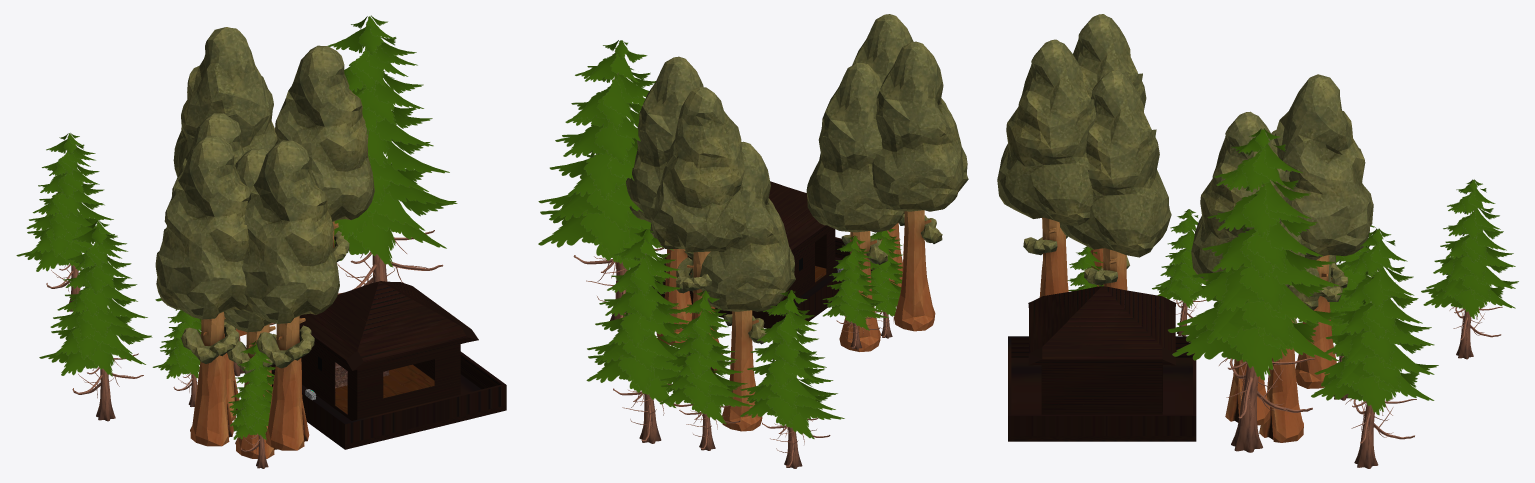
3 views of the same model, side by side, from view 1: azimuth 30°, elevation 25°; view 2: azimuth 150°, elevation 25°; view 3: azimuth 270°, elevation 25° (orthographic). The views are drawn at different scales.
Visible parts, largest first — view 1: RadioTower.glb.001, SequoiaTree_Mesh_4, SequoiaTree_Mesh_5, Pine_4_2_5, SequoiaTree_Mesh_1, Pine_4_2, SequoiaTree_Mesh_2, Pine_4_2_1_1, SequoiaTree_Mesh_3, Pine_4_2_3, SequoiaTree_Mesh, Pine_4_2_4 (+2 smaller); view 2: SequoiaTree_Mesh_5, Pine_4_2_5, SequoiaTree_Mesh_2, SequoiaTree_Mesh_3, SequoiaTree_Mesh, Pine_4, Pine_4_2, SequoiaTree_Mesh_1, RadioTower.glb.001, Pine_4_2_1_1, Pine_4_2_4, SequoiaTree_Mesh_4 (+4 smaller); view 3: RadioTower.glb.001, Pine_4_2_5, SequoiaTree_Mesh_4, SequoiaTree_Mesh_2, SequoiaTree_Mesh_3, Pine_4, Pine_4_2_1_1, SequoiaTree_Mesh_1, SequoiaTree_Mesh_5, SequoiaTree_Mesh, Pine_4_2_4, Pine_4_1_5 (+3 smaller).
Boxes of the visible parts, x1=… form: RadioTower.glb.001: x1=271, y1=281, x2=506, y2=449; SequoiaTree_Mesh_4: x1=242, y1=140, x2=339, y2=450; SequoiaTree_Mesh_5: x1=155, y1=136, x2=250, y2=446; Pine_4_2_5: x1=328, y1=15, x2=457, y2=267; SequoiaTree_Mesh_1: x1=275, y1=45, x2=374, y2=262; Pine_4_2: x1=39, y1=220, x2=152, y2=376; SequoiaTree_Mesh_2: x1=173, y1=27, x2=277, y2=336; Pine_4_2_1_1: x1=16, y1=133, x2=117, y2=271; SequoiaTree_Mesh_3: x1=224, y1=148, x2=277, y2=458; Pine_4_2_3: x1=228, y1=340, x2=275, y2=439; SequoiaTree_Mesh: x1=162, y1=113, x2=244, y2=420; Pine_4_2_4: x1=152, y1=309, x2=201, y2=378; SequoiaTree_Mesh_5: x1=872, y1=41, x2=968, y2=331; Pine_4_2_5: x1=538, y1=40, x2=673, y2=281; SequoiaTree_Mesh_2: x1=650, y1=86, x2=746, y2=373; SequoiaTree_Mesh_3: x1=806, y1=62, x2=904, y2=351; SequoiaTree_Mesh: x1=689, y1=141, x2=795, y2=431; Pine_4: x1=586, y1=229, x2=693, y2=443; Pine_4_2: x1=740, y1=290, x2=844, y2=439; SequoiaTree_Mesh_1: x1=626, y1=56, x2=703, y2=345; RadioTower.glb.001: x1=652, y1=181, x2=872, y2=328; Pine_4_2_1_1: x1=659, y1=290, x2=753, y2=424; Pine_4_2_4: x1=822, y1=235, x2=888, y2=330; SequoiaTree_Mesh_4: x1=852, y1=14, x2=913, y2=286; RadioTower.glb.001: x1=1008, y1=286, x2=1196, y2=441; Pine_4_2_5: x1=1168, y1=128, x2=1344, y2=380; SequoiaTree_Mesh_4: x1=997, y1=39, x2=1095, y2=297; SequoiaTree_Mesh_2: x1=1274, y1=74, x2=1373, y2=388; SequoiaTree_Mesh_3: x1=1059, y1=70, x2=1171, y2=290; Pine_4: x1=1311, y1=228, x2=1438, y2=468; Pine_4_2_1_1: x1=1421, y1=179, x2=1518, y2=318; SequoiaTree_Mesh_1: x1=1191, y1=111, x2=1304, y2=425; SequoiaTree_Mesh_5: x1=1073, y1=14, x2=1146, y2=286; SequoiaTree_Mesh: x1=1259, y1=130, x2=1336, y2=442; Pine_4_2_4: x1=1152, y1=209, x2=1214, y2=307; Pine_4_1_5: x1=1219, y1=184, x2=1314, y2=452.
Bounding box in the file's own units: 65.19 × 62.31 × 77.79.
Materials: 22 (14 with a texture image).
